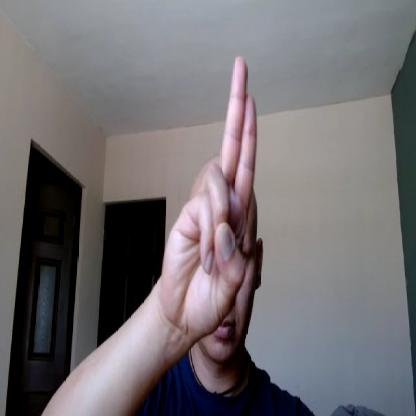U: (161, 53, 257, 337)
